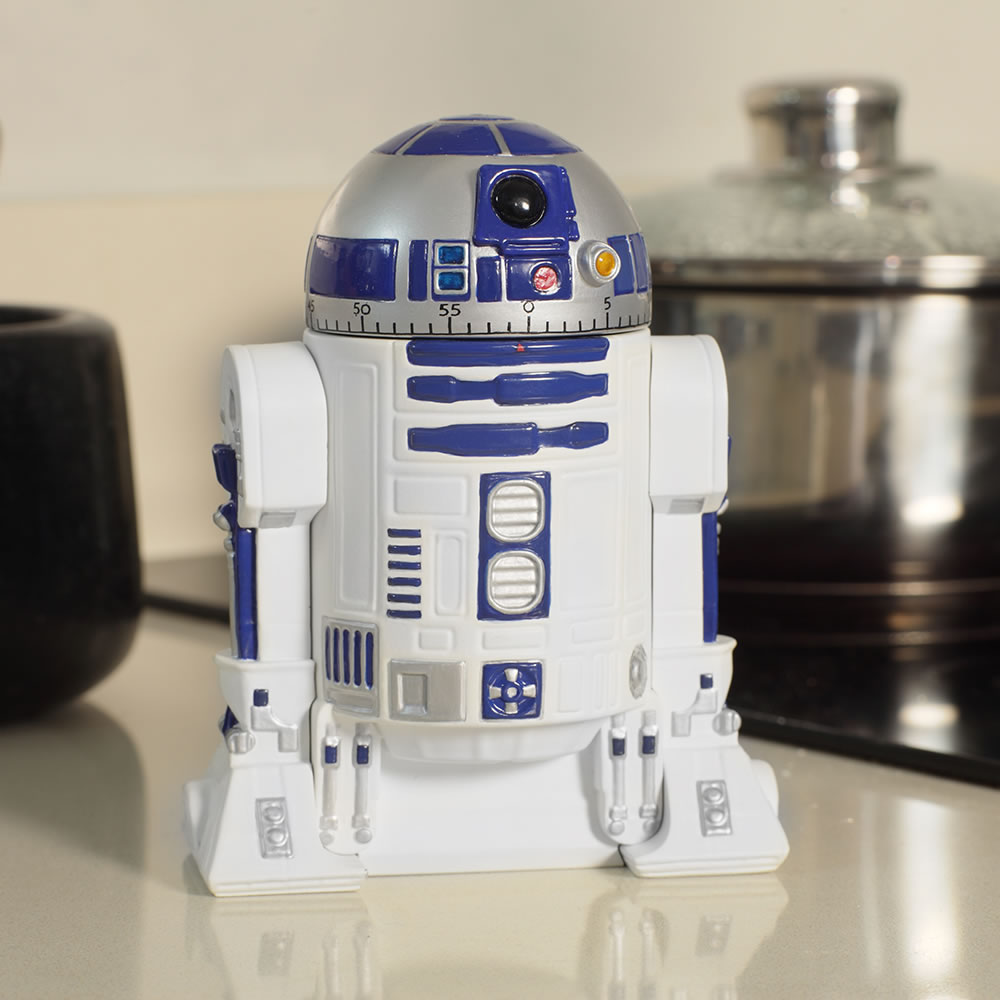r2d2: (186, 114, 788, 897)
